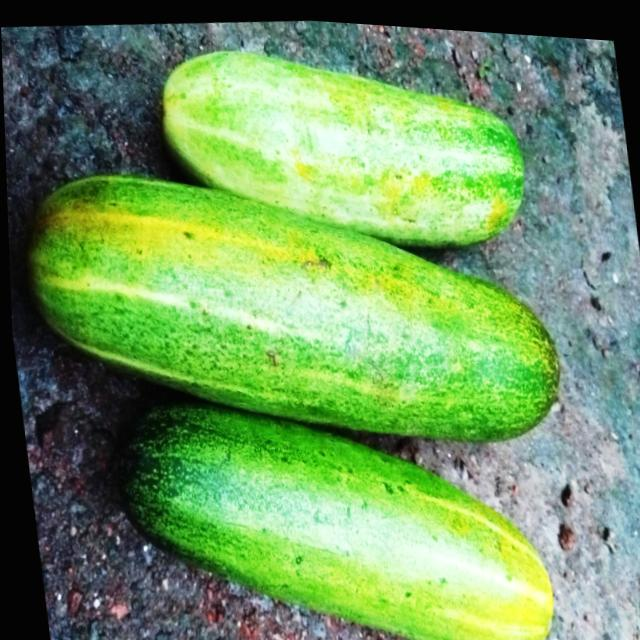Fresh-Cucumber: (8, 126, 569, 482), (98, 356, 557, 640), (148, 15, 536, 271)
